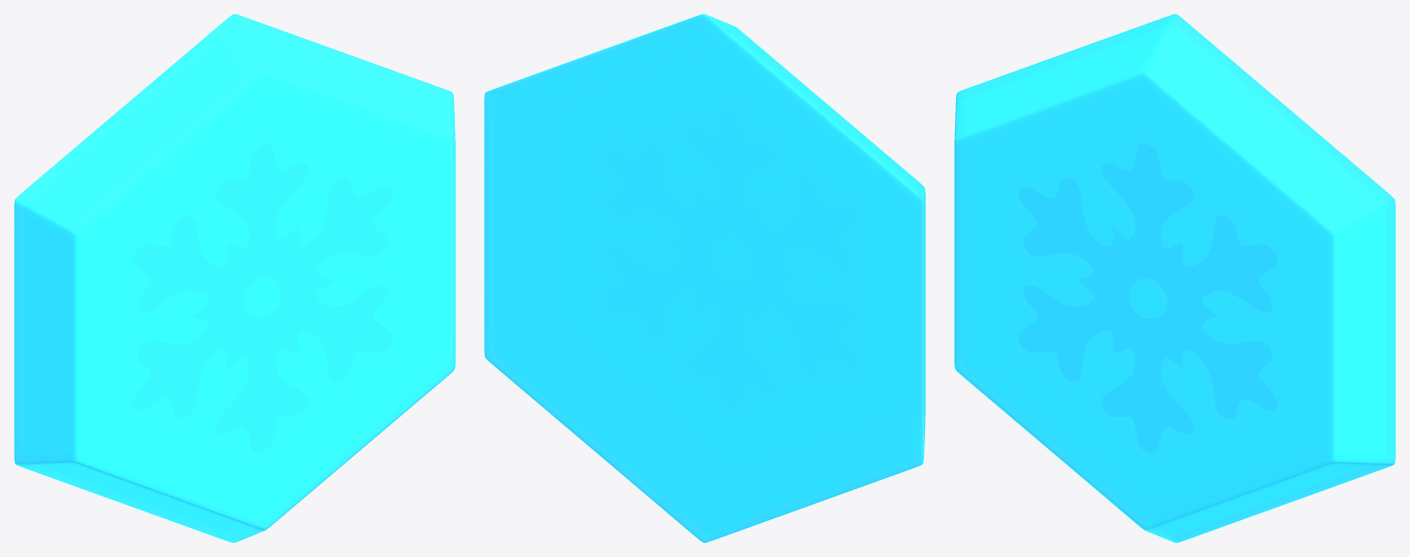
Rendered from blue_snowflake_coin.glb.
3 views of the same model, side by side, from view 1: azimuth 30°, elevation 25°; view 2: azimuth 150°, elevation 25°; view 3: azimuth 330°, elevation 25° (orthographic).
Parts seen in each view (by area): view 1: Object_3, Object_2, Object_4; view 2: Object_3, Object_2; view 3: Object_3, Object_2, Object_4.
Part boxes in pixels (bbox=[...]): Object_3: bbox=[14, 14, 455, 542]; Object_2: bbox=[24, 25, 447, 534]; Object_4: bbox=[133, 144, 390, 453]; Object_3: bbox=[484, 14, 925, 542]; Object_2: bbox=[494, 22, 917, 531]; Object_3: bbox=[954, 14, 1395, 542]; Object_2: bbox=[962, 25, 1385, 534]; Object_4: bbox=[1019, 144, 1276, 453].
Bounding box in the file's own units: 4.46 × 5.13 × 0.575.
